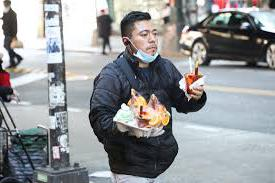mask_weared_incorrect: (131, 25, 165, 63)
